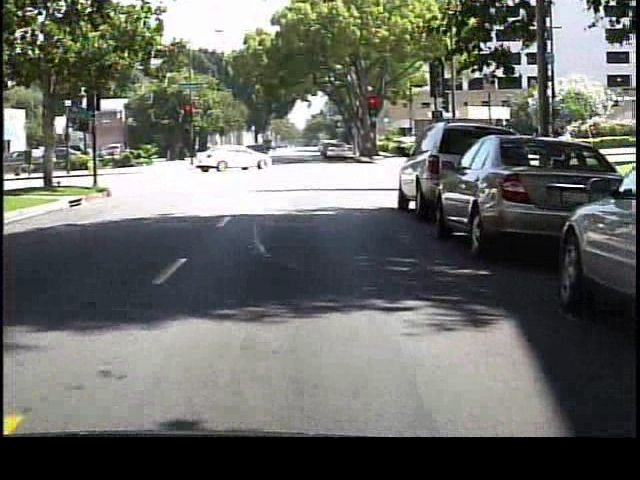person: (262, 140, 278, 171)
